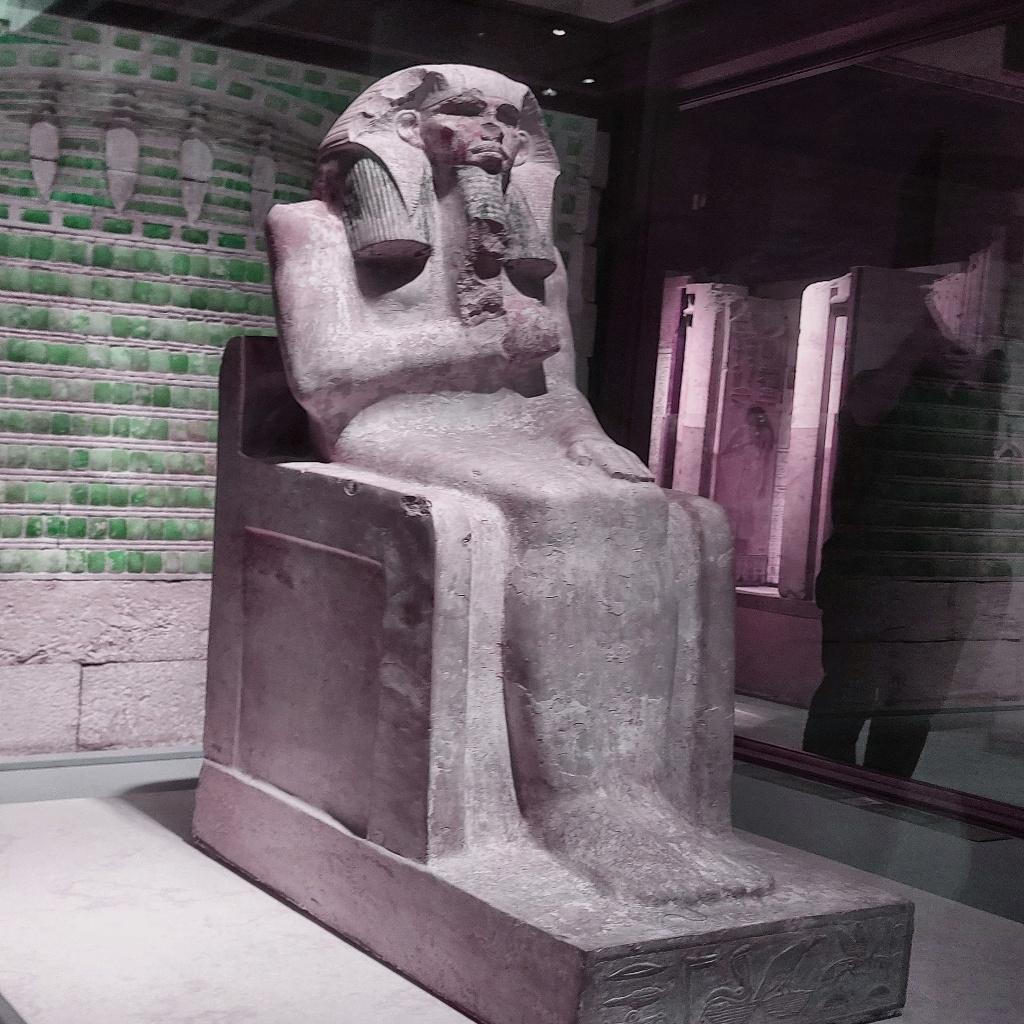Seated Statue of Djoser: (210, 59, 786, 912)
